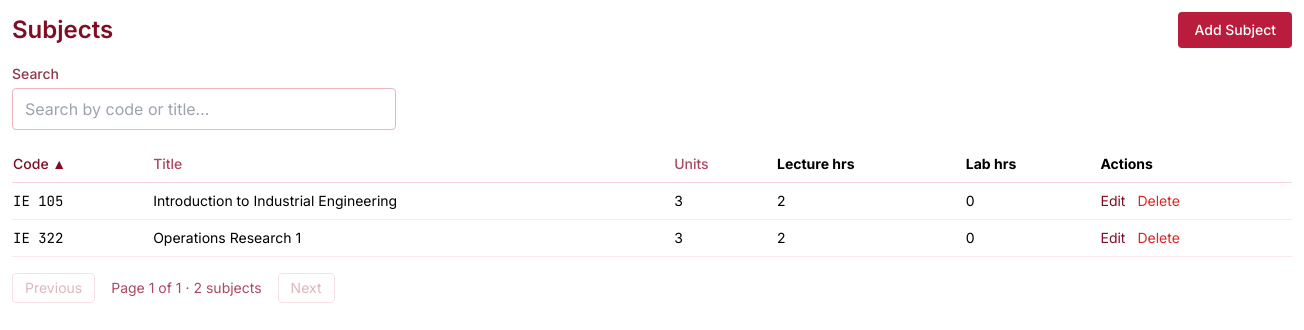
SubjectsPage — list rendering › shows a search empty state distinct from the catalog empty state
Expected: the text "IE 105" is shown, [12,182,152,220]
Type "nonexistent" into the search field labelled "Search" at (204, 109), box [12,88,396,130]
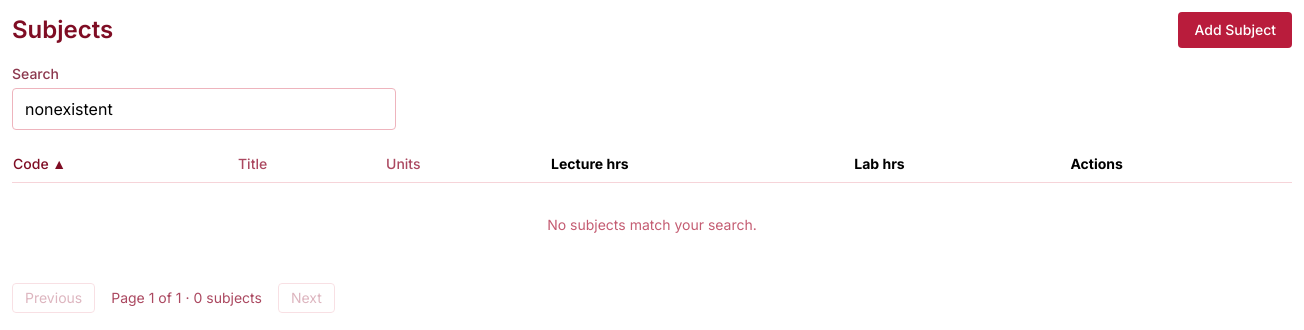
Now the text "No subjects match your search." is shown, box [12,182,1292,267]
